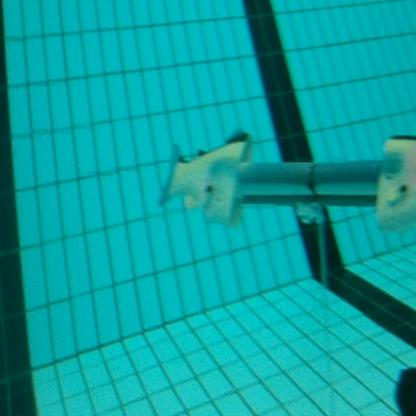tail: (156, 129, 257, 239)
